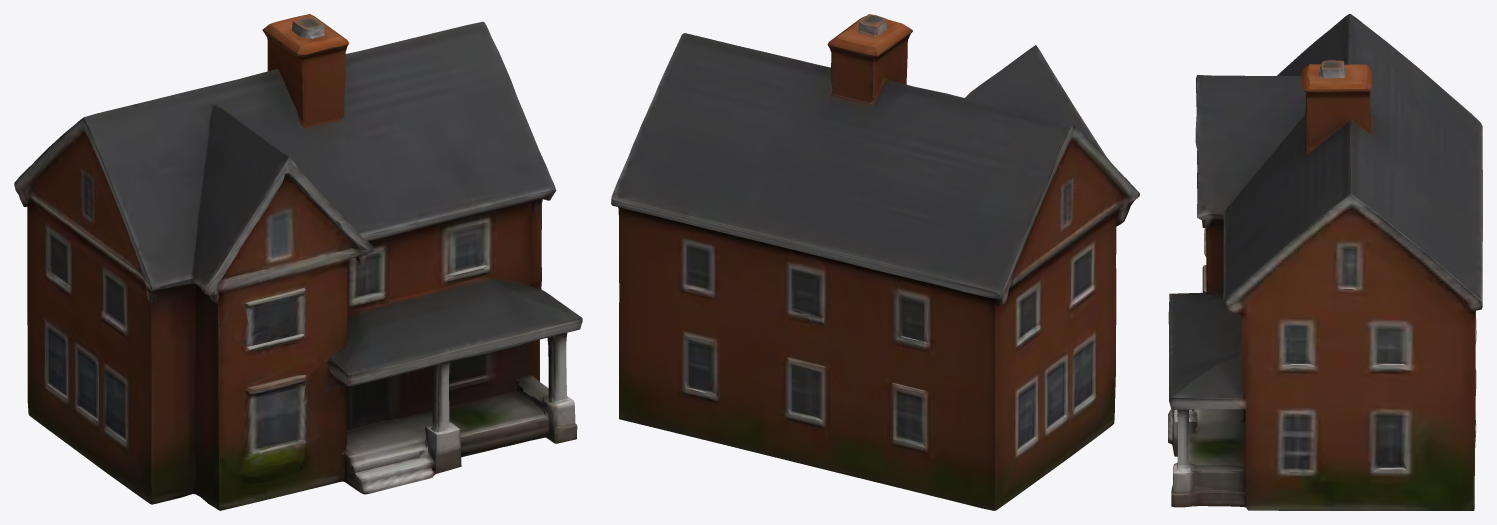
File: house 2.glb
3 views of the same model, side by side, from view 1: azimuth 30°, elevation 25°; view 2: azimuth 150°, elevation 25°; view 3: azimuth 270°, elevation 25° (orthographic). The views are drawn at different scales.
Visible parts, largest first — view 1: world; view 2: world; view 3: world.
Boxes of the visible parts, x1=… form: world: x1=14, y1=14, x2=582, y2=510; world: x1=611, y1=14, x2=1139, y2=510; world: x1=1168, y1=14, x2=1482, y2=510.
Bounding box in the file's own units: 0.4923 × 0.4664 × 0.3643.
Materials: 1 (1 with a texture image).
